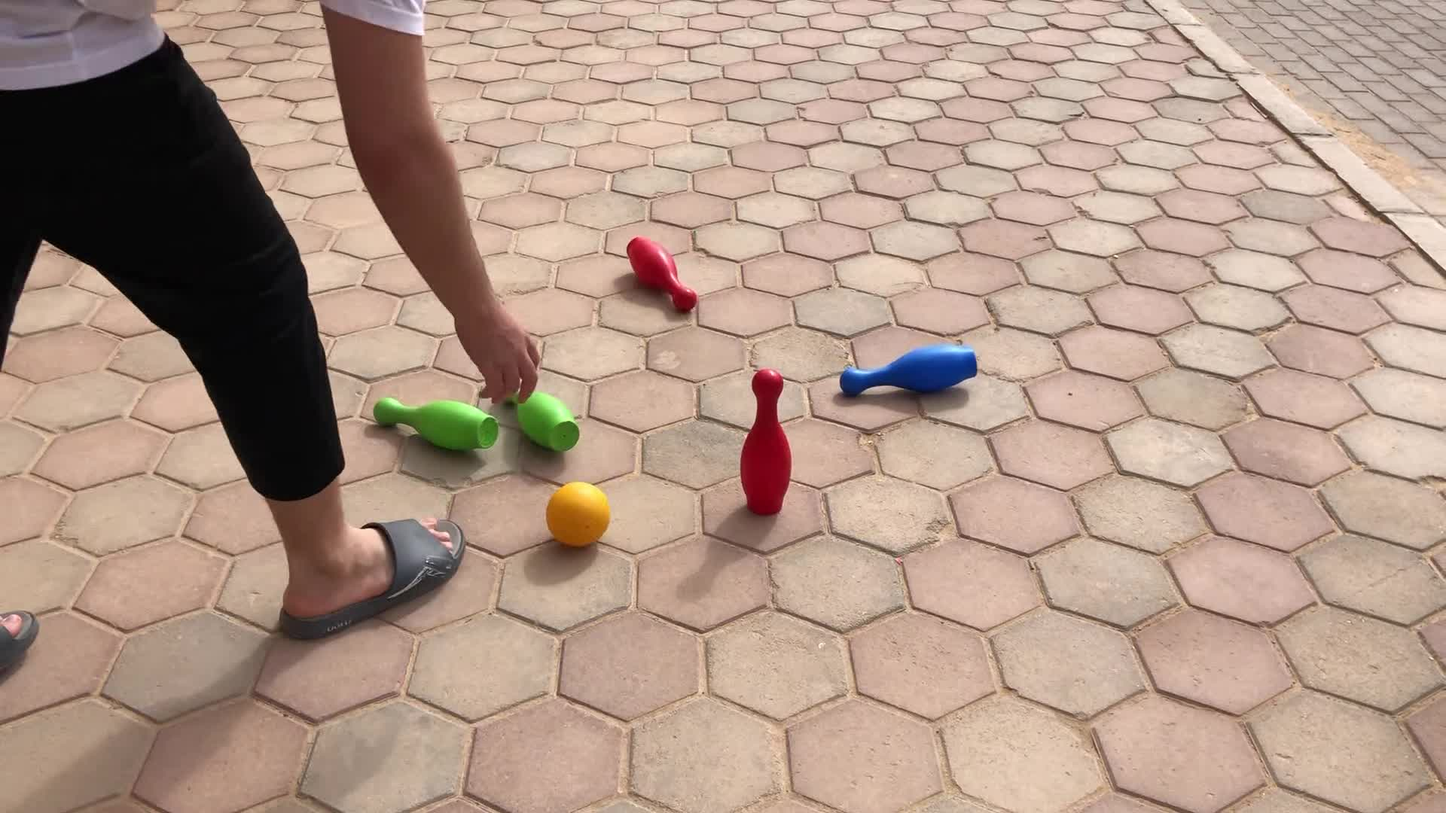pin: (740, 369, 792, 516), (374, 397, 497, 452), (840, 345, 978, 394), (499, 377, 578, 452), (632, 236, 700, 312)
